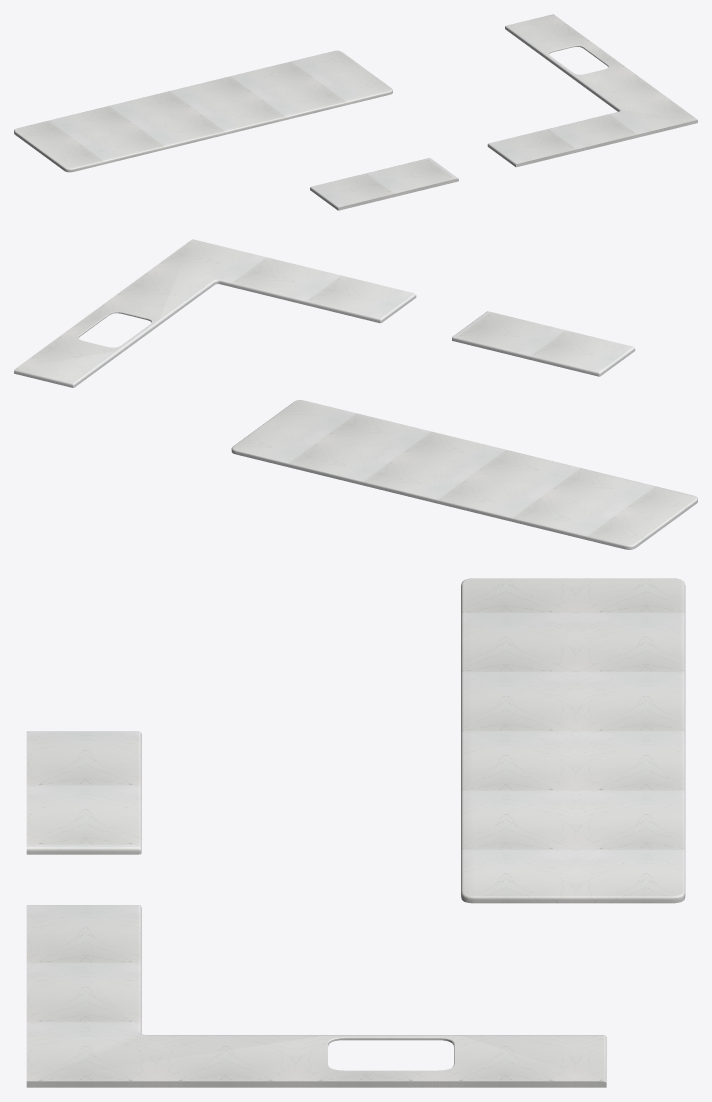
The model's file is 1860_kitchen_Countertops_QuartzCalacattaUltra.gltf.
3 views of the same model, one above another, from view 1: azimuth 30°, elevation 25°; view 2: azimuth 150°, elevation 25°; view 3: azimuth 270°, elevation 25° (orthographic). The views are drawn at different scales.
Parts seen in each view (by area): view 1: Countertops_Quartz Calacatta Ultra; view 2: Countertops_Quartz Calacatta Ultra; view 3: Countertops_Quartz Calacatta Ultra.
Boxes of the visible parts, x1,y1,x2,y2 form: Countertops_Quartz Calacatta Ultra: (14, 14, 697, 210); Countertops_Quartz Calacatta Ultra: (14, 239, 697, 549); Countertops_Quartz Calacatta Ultra: (26, 578, 685, 1087).
Bounding box in the file's own units: 8.6 × 0.09 × 4.7.
1 material, 1 textured.
